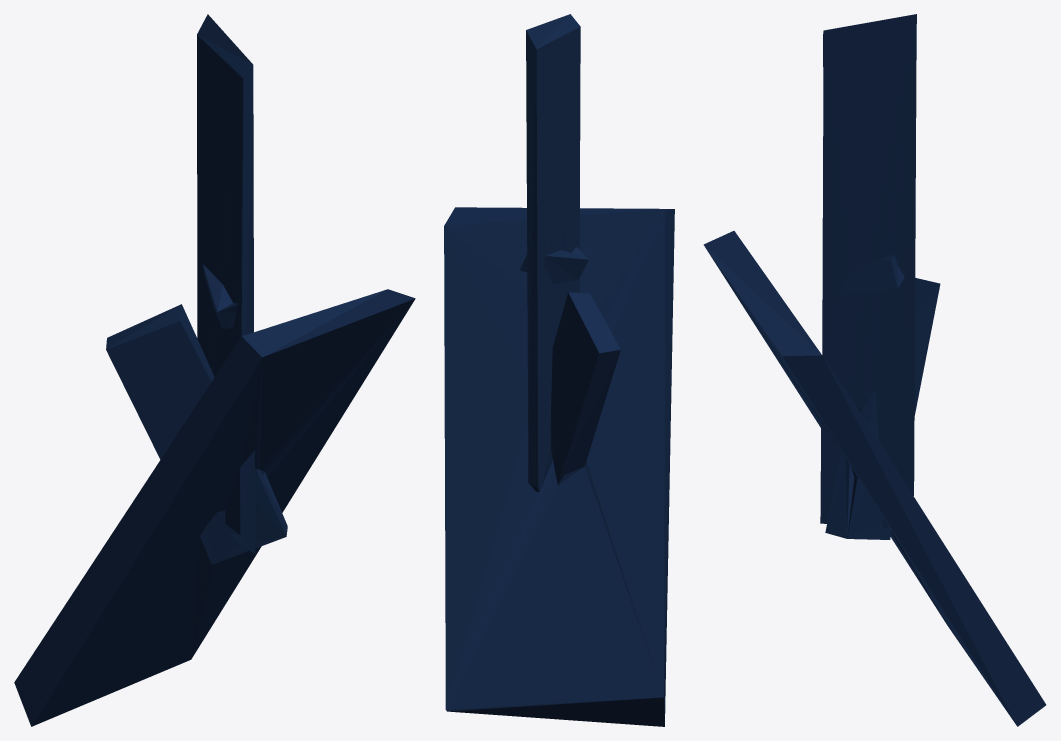
3 views of the same model, side by side, from view 1: azimuth 30°, elevation 25°; view 2: azimuth 150°, elevation 25°; view 3: azimuth 270°, elevation 25° (orthographic). The views are drawn at different scales.
Visible parts, largest first — view 1: 090_Cube.373; view 2: 090_Cube.373; view 3: 090_Cube.373.
Part boxes in pixels (x1,y1,x2,y2): 090_Cube.373: (14, 14, 415, 726); 090_Cube.373: (444, 14, 674, 726); 090_Cube.373: (703, 14, 1046, 726).
Size of the model in its own units: 8.22 by 17.45 by 7.79.
